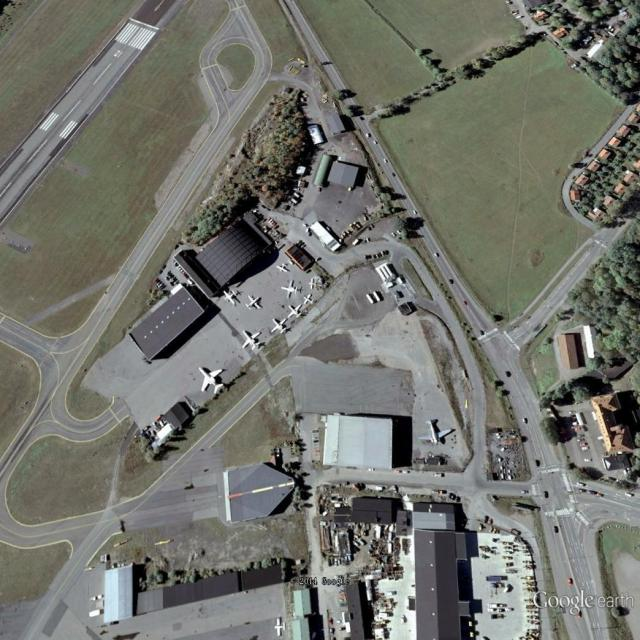aircraft: (416, 419, 456, 446), (199, 366, 227, 394), (241, 330, 263, 351), (269, 317, 291, 335), (282, 280, 299, 300), (244, 295, 263, 311), (287, 305, 304, 321), (224, 291, 238, 308), (303, 293, 316, 307), (277, 263, 291, 274), (308, 278, 319, 292)
